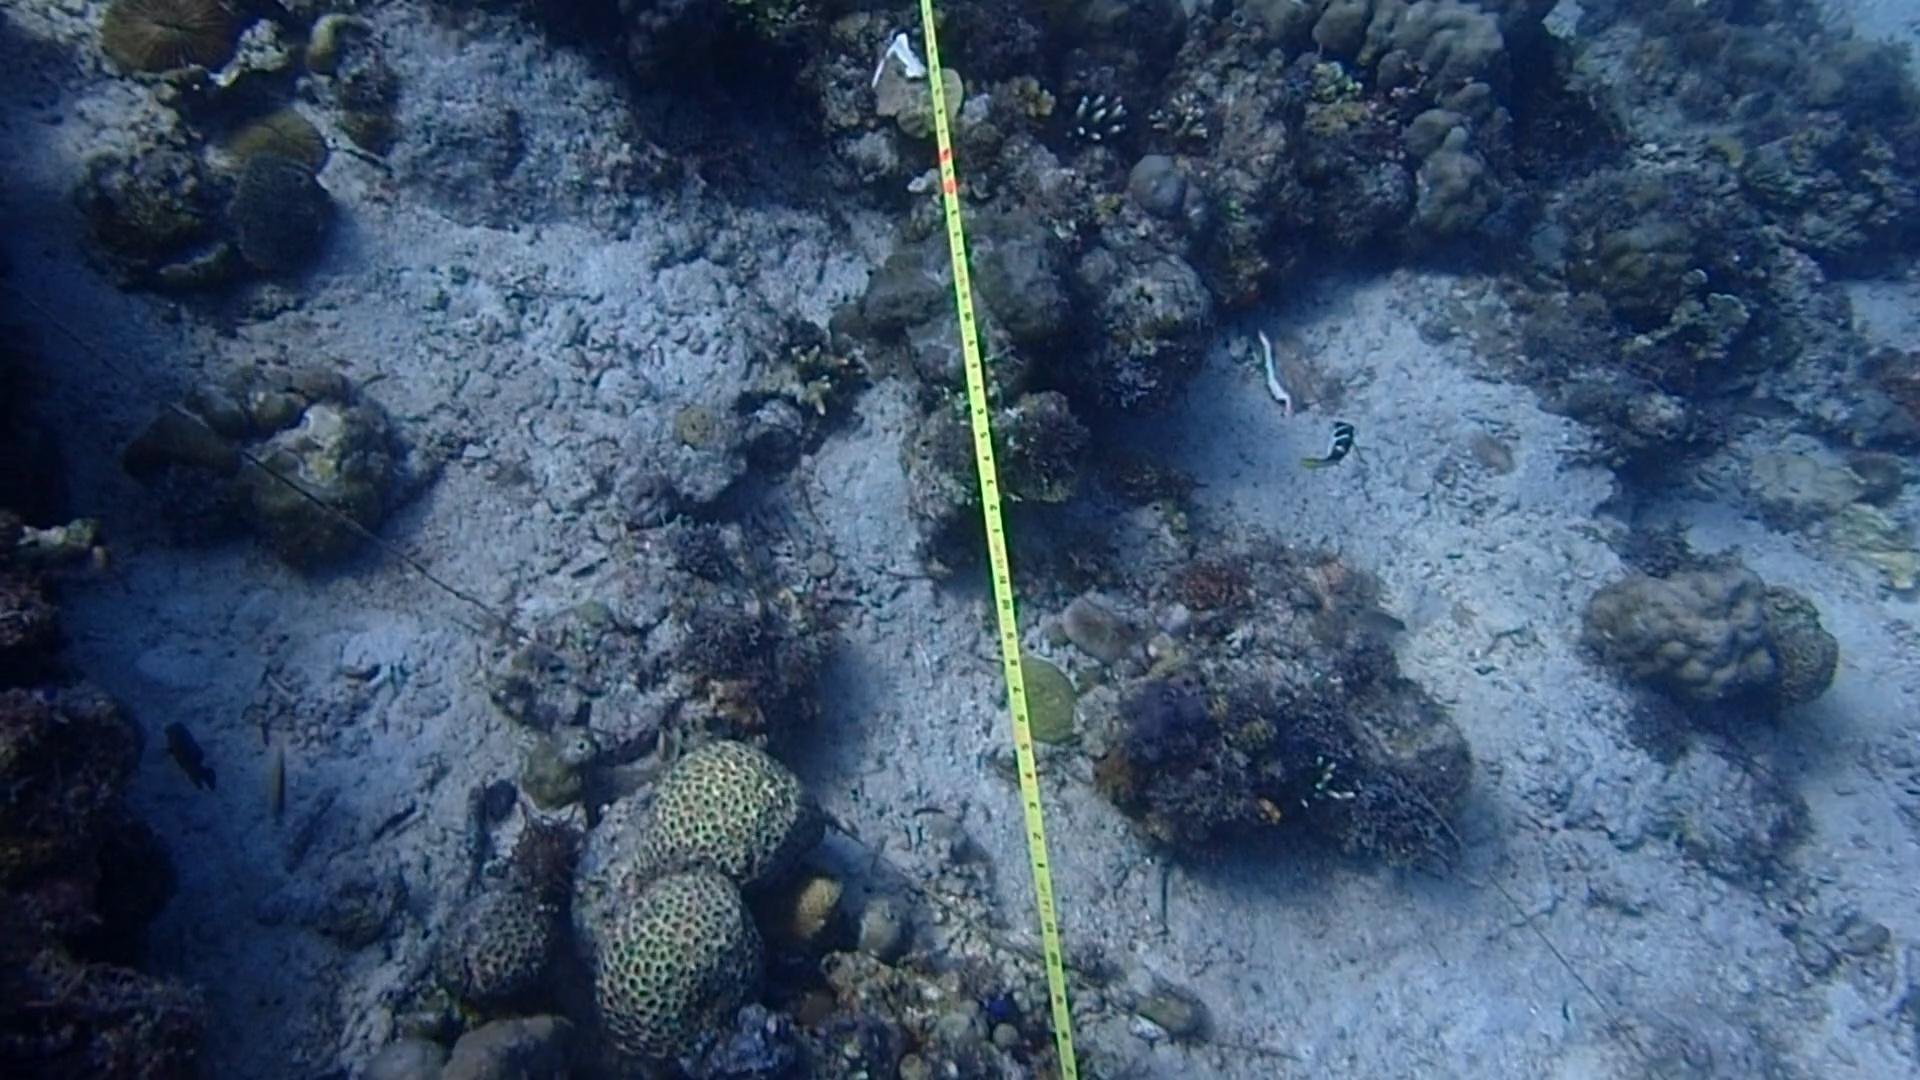Striped Fish: (1298, 413, 1356, 477)
